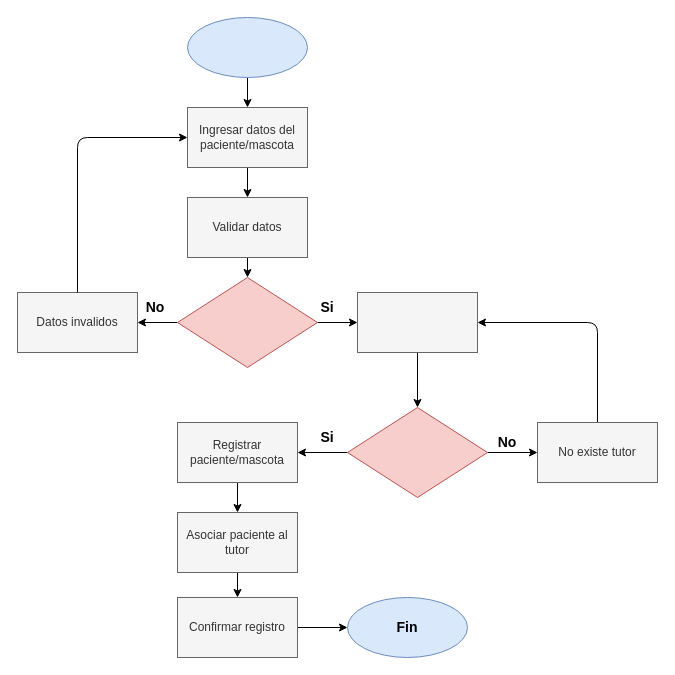
The diagram is 675 pixels wide and 675 high, and some of its shapes have lost their labels. Each missing label, with the box of its shape:
Buscar tutor: (356, 292, 478, 352)
Inicio: (186, 16, 308, 78)
¿Datos validos?: (176, 276, 318, 368)
¿Existe tutor?: (346, 406, 488, 498)
